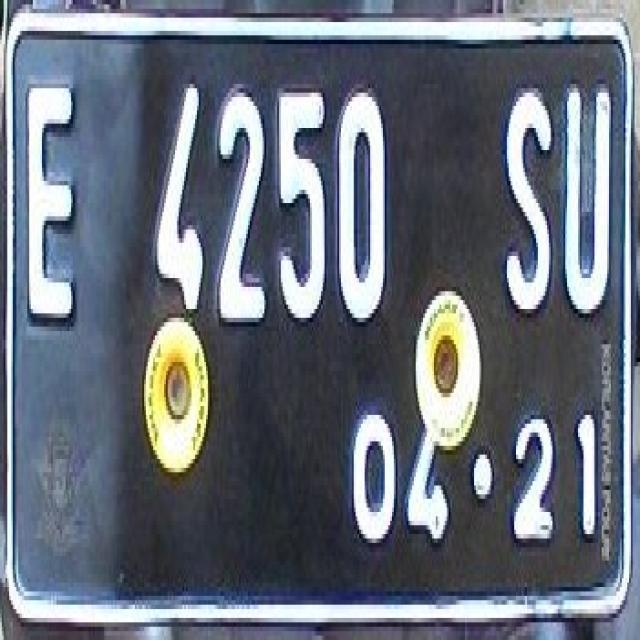plate: (0, 0, 629, 614)
